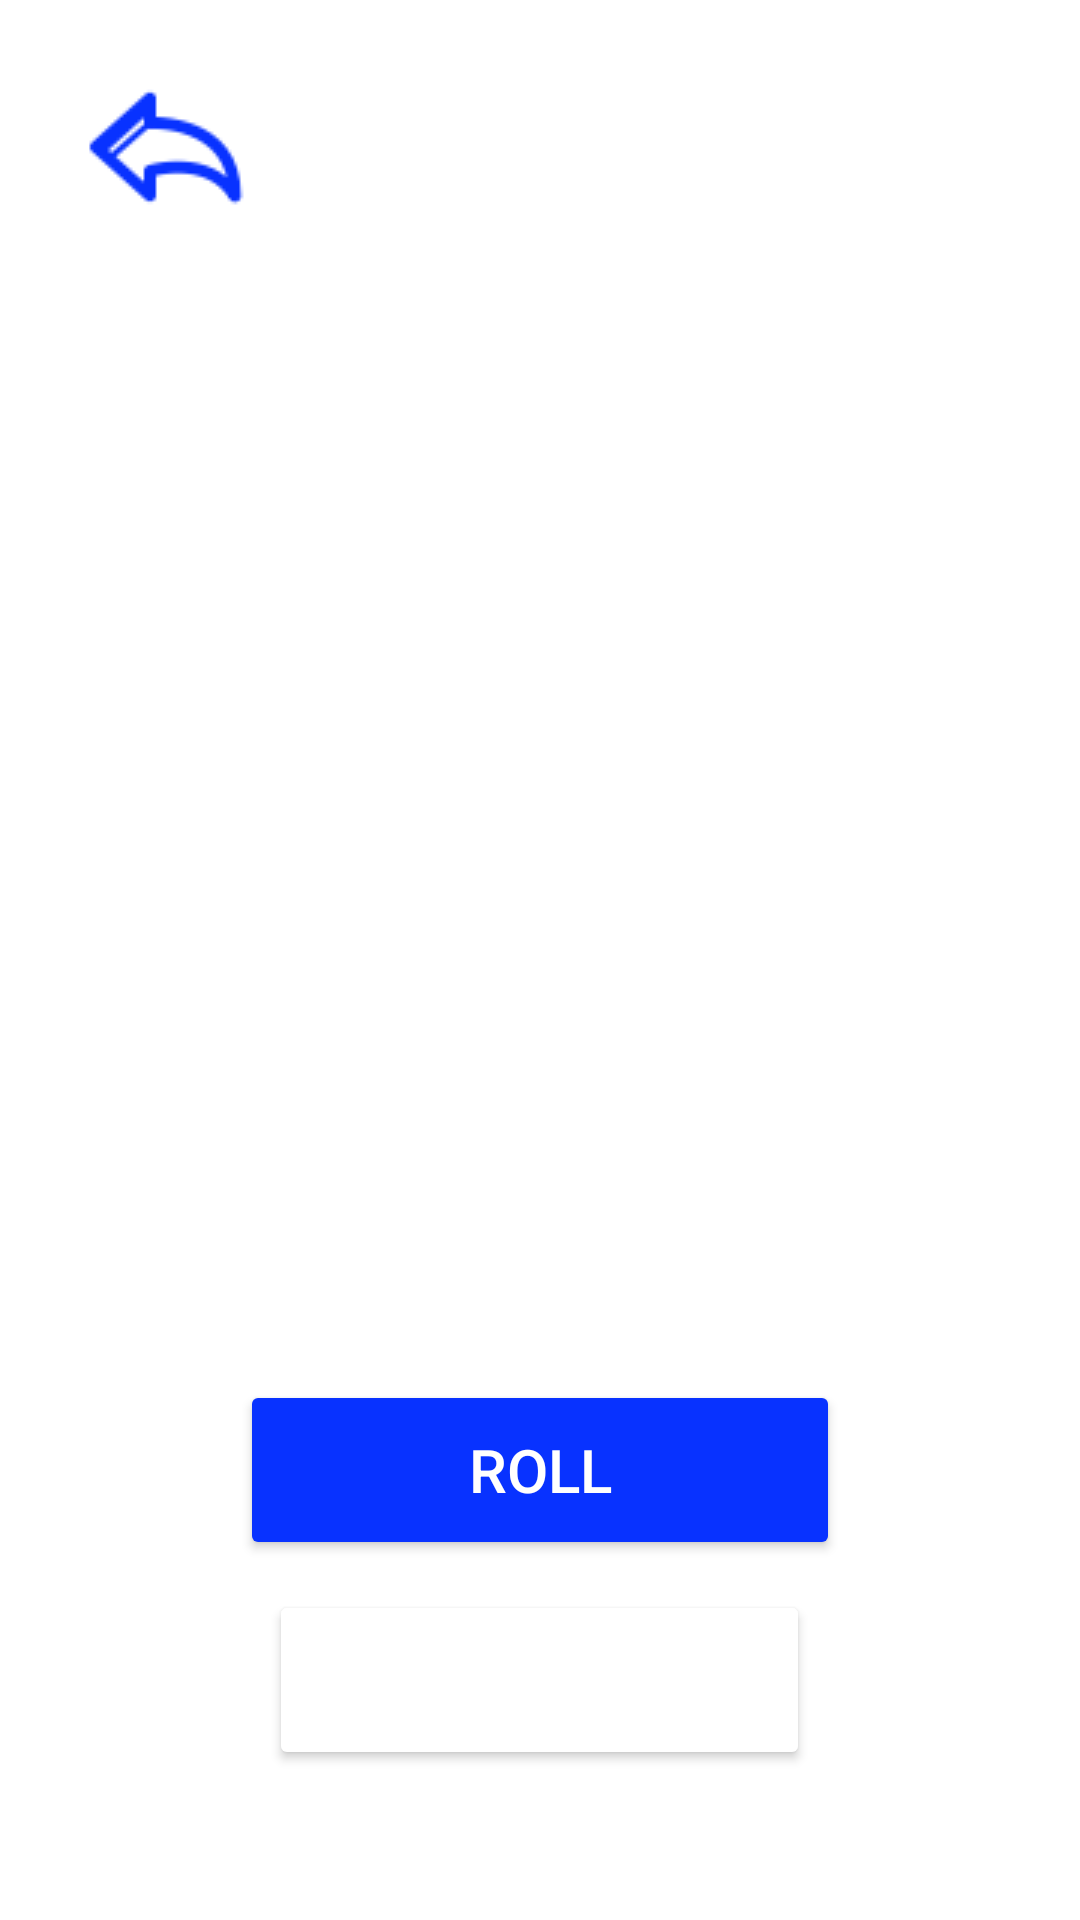

Screen size 1080 x 1920. Icon name, then its box in pixels as {"left": x1, "top": y1, "right": x2, "bottom": y2}:
back: {"left": 89, "top": 92, "right": 243, "bottom": 204}
